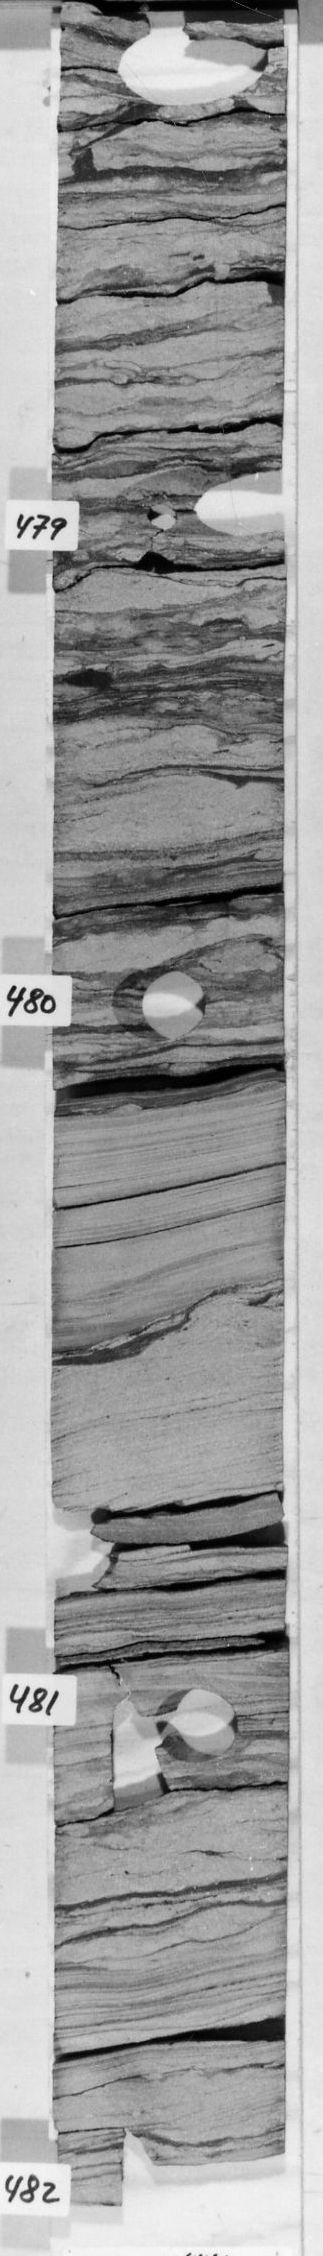hplug: (107, 965, 209, 1046), (156, 1689, 247, 1770), (195, 465, 286, 542)
scal: (111, 23, 278, 109)
vplug: (99, 1691, 170, 1814), (121, 482, 190, 578), (177, 892, 241, 971), (111, 2124, 163, 2206)
